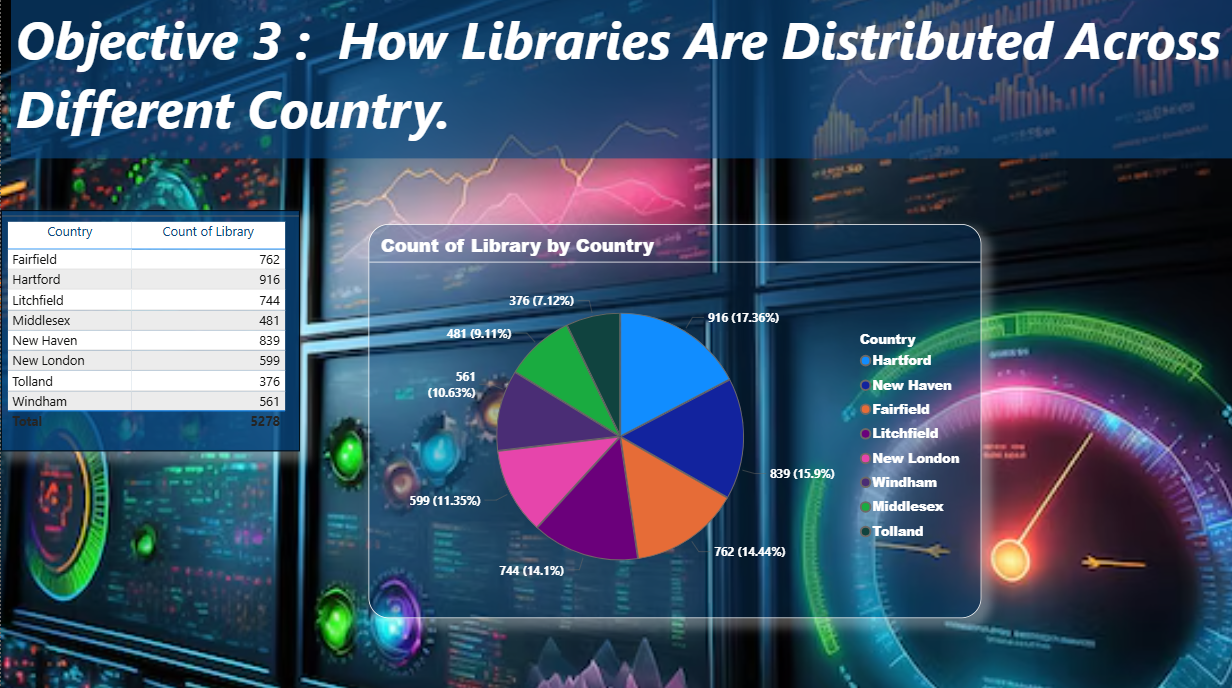

What the dashboard file says about the page in this screenshot:
{"tool":"powerbi","page":{"name":"Objective 3 ","canvas":[1280,720],"ordinal":4},"visuals":[{"type":"textbox","box":[10.6,0,1269.4,165.9],"z":0},{"type":"tableEx","fields":{"Values":["Public_Libraries.Country","Public_Libraries.Library"]},"box":[0,220,310.6,250.6],"z":1000},{"type":"pieChart","title":"Count of Library by Country","fields":{"Y":["CountNonNull(Public_Libraries.Library)"],"Category":["Public_Libraries.County"]},"box":[382.4,234.1,636.5,409.4],"z":2000}]}

Visuals, with their boxes in screenshot pixels (x1, y1, x2, y2), scaled from the page's 1280x720 canvas onto the 1232x688 screenshot:
textbox: BBox(10, 0, 1231, 159)
tableEx - Public_Libraries.Country x Public_Libraries.Library: BBox(0, 210, 299, 450)
"Count of Library by Country" pieChart: BBox(368, 224, 981, 615)
